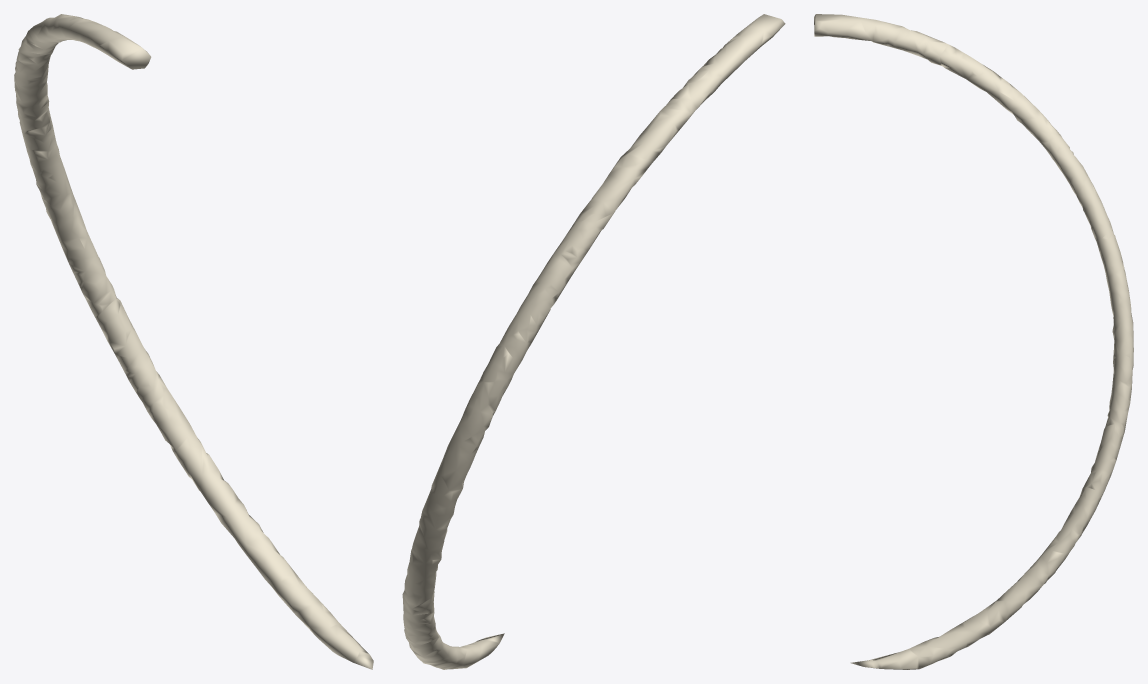
The model's file is rib_8_r.glb.
3 renders of one model, left to right at view 1: azimuth 30°, elevation 25°; view 2: azimuth 150°, elevation 25°; view 3: azimuth 270°, elevation 25°, orthographic. The views are drawn at different scales.
Visible parts, largest first — view 1: geometry_0; view 2: geometry_0; view 3: geometry_0.
Boxes of the visible parts, x1=… form: geometry_0: x1=14, y1=14, x2=373, y2=669; geometry_0: x1=402, y1=14, x2=785, y2=669; geometry_0: x1=814, y1=14, x2=1133, y2=669.
Size of the model in its own units: 0.3378 by 0.7791 by 0.4123.
